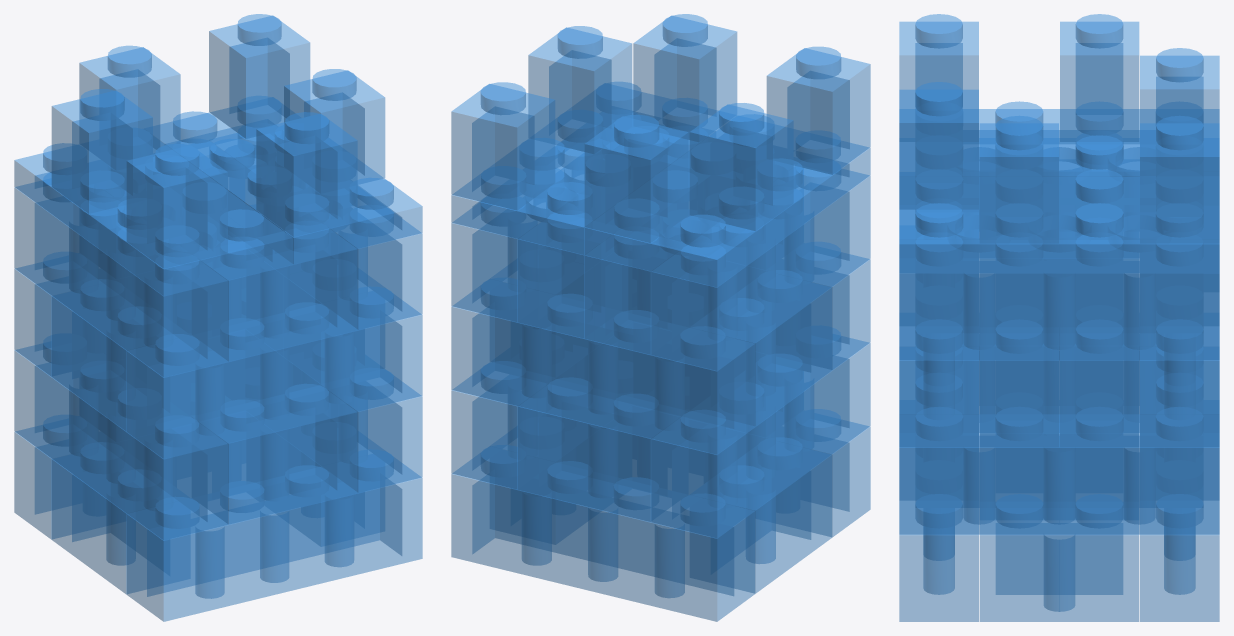
File: build.glb
3 renders of one model, left to right at view 1: azimuth 30°, elevation 25°; view 2: azimuth 150°, elevation 25°; view 3: azimuth 270°, elevation 25°, orthographic. The views are drawn at different scales.
Parts seen in each view (by area): view 1: 3010.dat (×8), 3005.dat (×8), 3004.dat (×5), 3020.dat (×2); view 2: 3010.dat (×8), 3005.dat (×9), 3020.dat (×2), 3004.dat (×5); view 3: 3010.dat (×8), 3005.dat (×9), 3020.dat (×2), 3004.dat (×6).
Part boxes in pixels (box(x1,y1,x2,y2)): 3010.dat (×8): box(14, 133, 422, 621); 3005.dat (×8): box(51, 14, 385, 365); 3004.dat (×5): box(51, 228, 364, 594); 3020.dat (×2): box(14, 96, 422, 295); 3010.dat (×8): box(451, 112, 870, 621); 3005.dat (×9): box(451, 14, 870, 358); 3020.dat (×2): box(451, 82, 870, 287); 3004.dat (×5): box(510, 136, 832, 593); 3010.dat (×8): box(899, 142, 1219, 621); 3005.dat (×9): box(899, 14, 1219, 447); 3020.dat (×2): box(899, 101, 1219, 272); 3004.dat (×6): box(899, 209, 1219, 621).
Bounding box in the file's own units: 0.0319 × 0.0527 × 0.0319.
